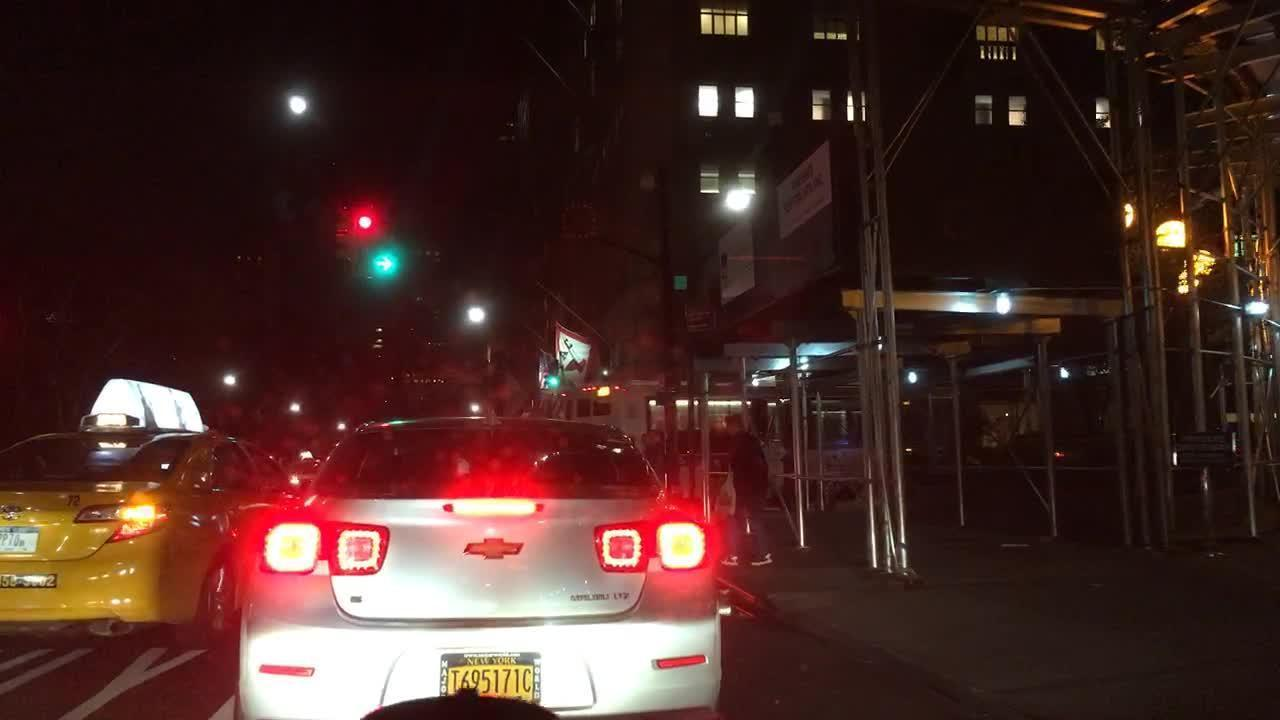chevrolet: (459, 527, 533, 570)
